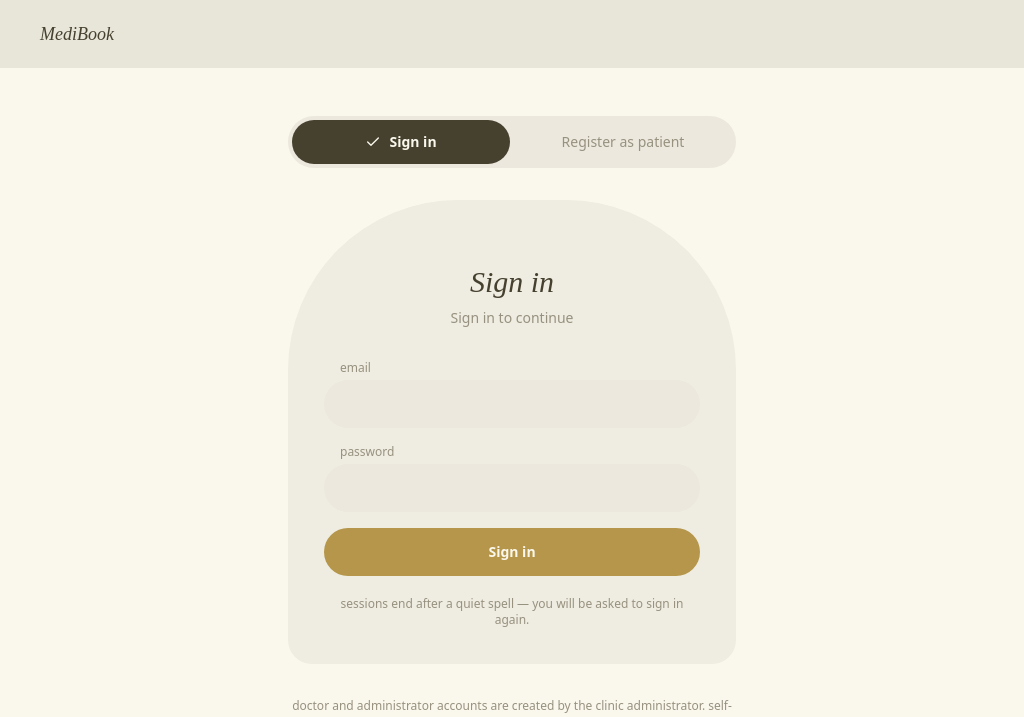
Scenario: SignIn screen - registration consent capture (AC-058) › [AC-058] shows the consent statement checkbox, unticked, on the registration form
This screenshot has width=1024, height=717.
Click the tab with test id "register-as-patient-tab" at [623, 142], box top-left (514, 120), bottom-right (732, 164)
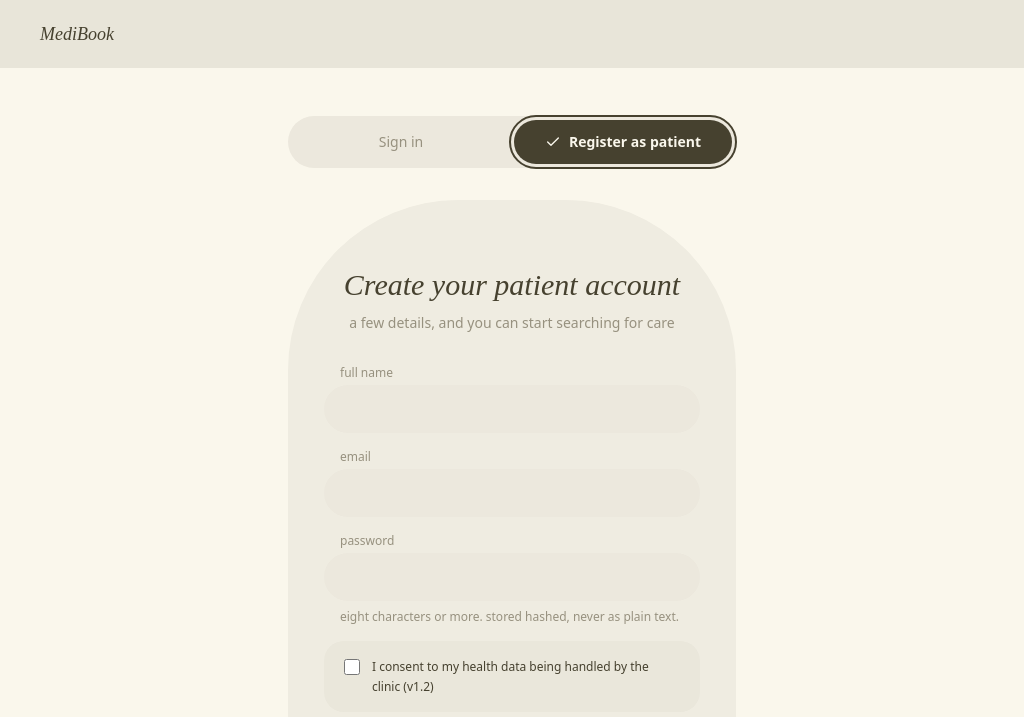
Expected: the checkbox with test id "i-consent-to-my-health-data-being-input" is not checked, top-left (344, 659), bottom-right (360, 675)
